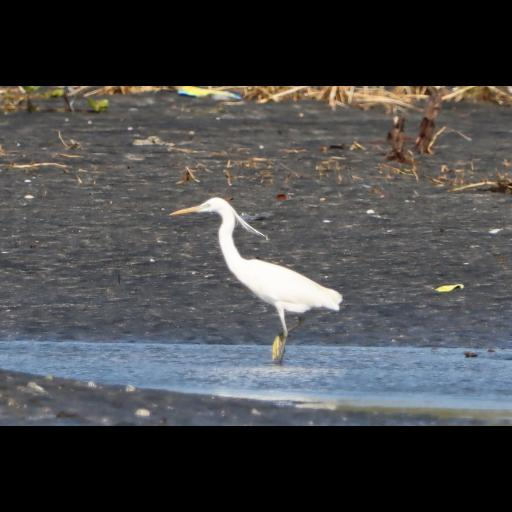chinese_egret: (169, 196, 343, 362)
